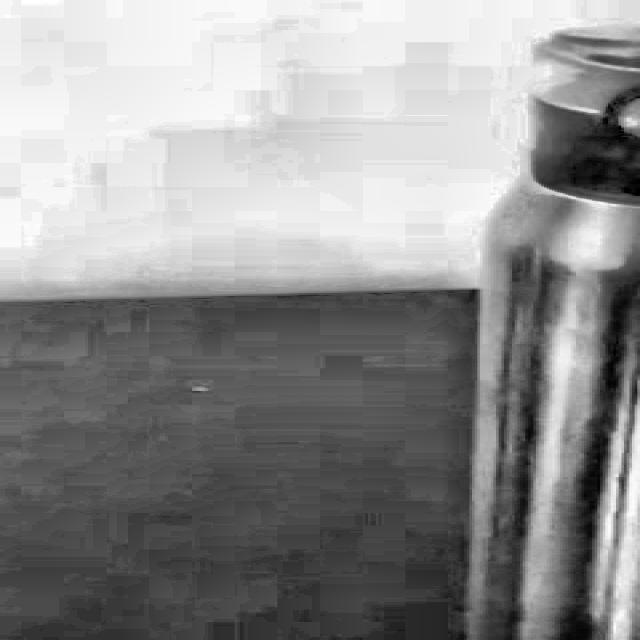bottle: (459, 35, 640, 640)
